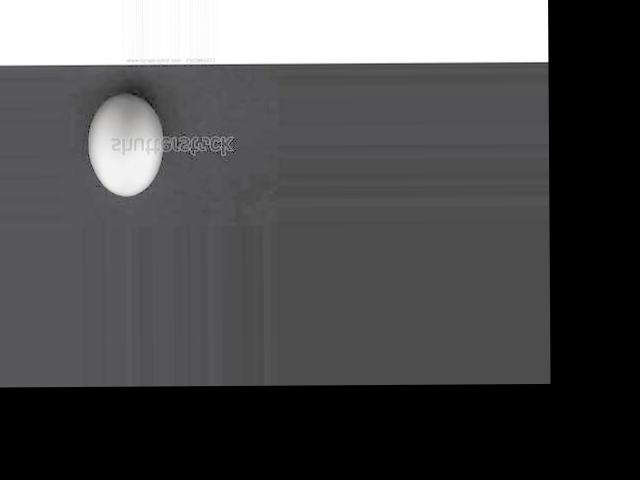egg: (88, 94, 161, 197)
